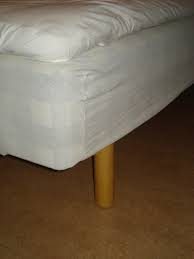bed-matress: (1, 1, 192, 173)
